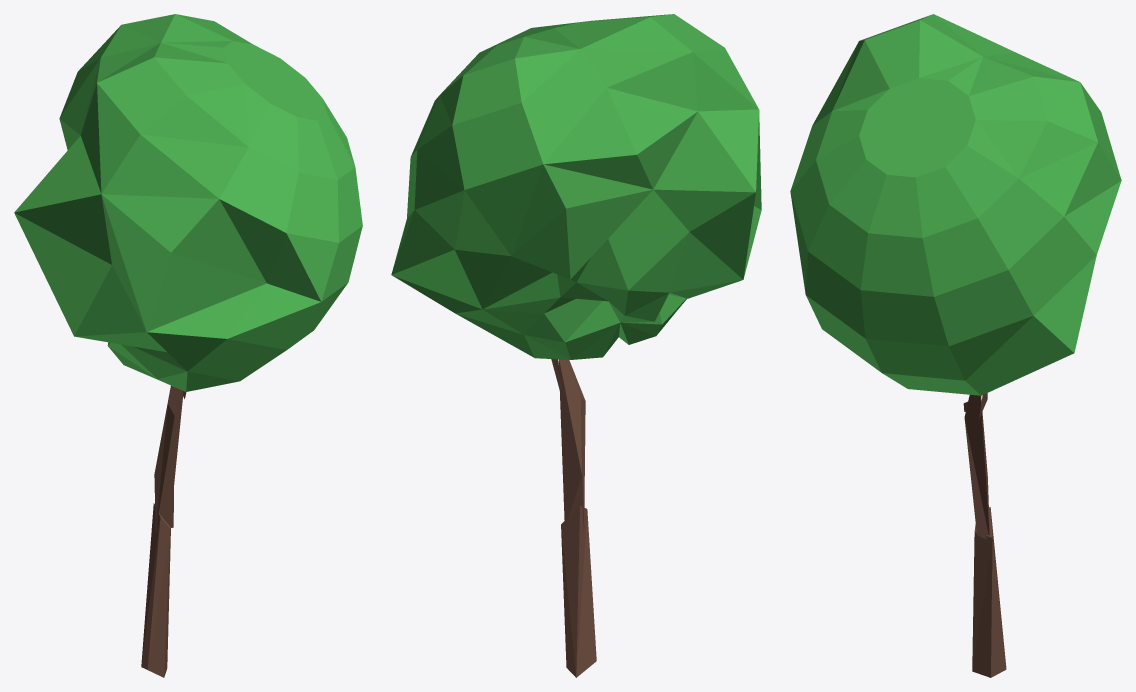
Rendered from tree-test.glb.
3 views of the same model, side by side, from view 1: azimuth 30°, elevation 25°; view 2: azimuth 150°, elevation 25°; view 3: azimuth 270°, elevation 25° (orthographic). The views are drawn at different scales.
Visible parts, largest first — view 1: Node; view 2: Node; view 3: Node.
Part boxes in pixels (x1=…): Node: x1=14, y1=14, x2=362, y2=677; Node: x1=391, y1=14, x2=761, y2=677; Node: x1=790, y1=14, x2=1121, y2=677.
Size of the model in its own units: 2.36 by 4.47 by 2.11.
